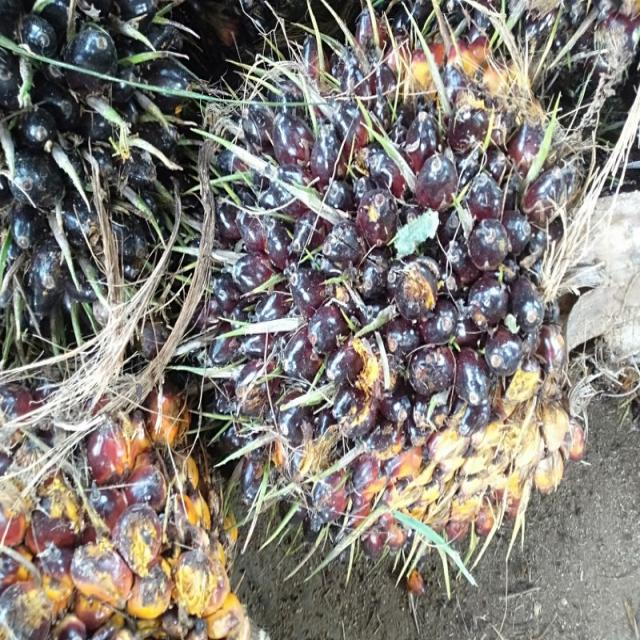fraksi 1: (180, 63, 588, 550)
